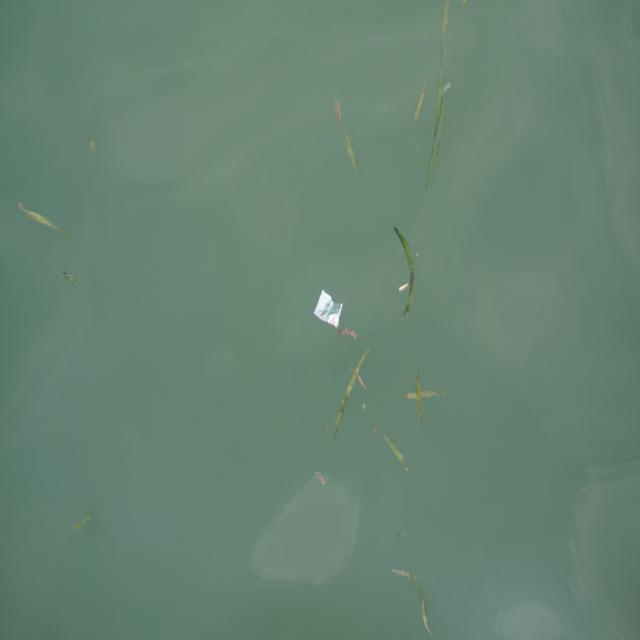Bungkus Makanan: (314, 289, 346, 335)
